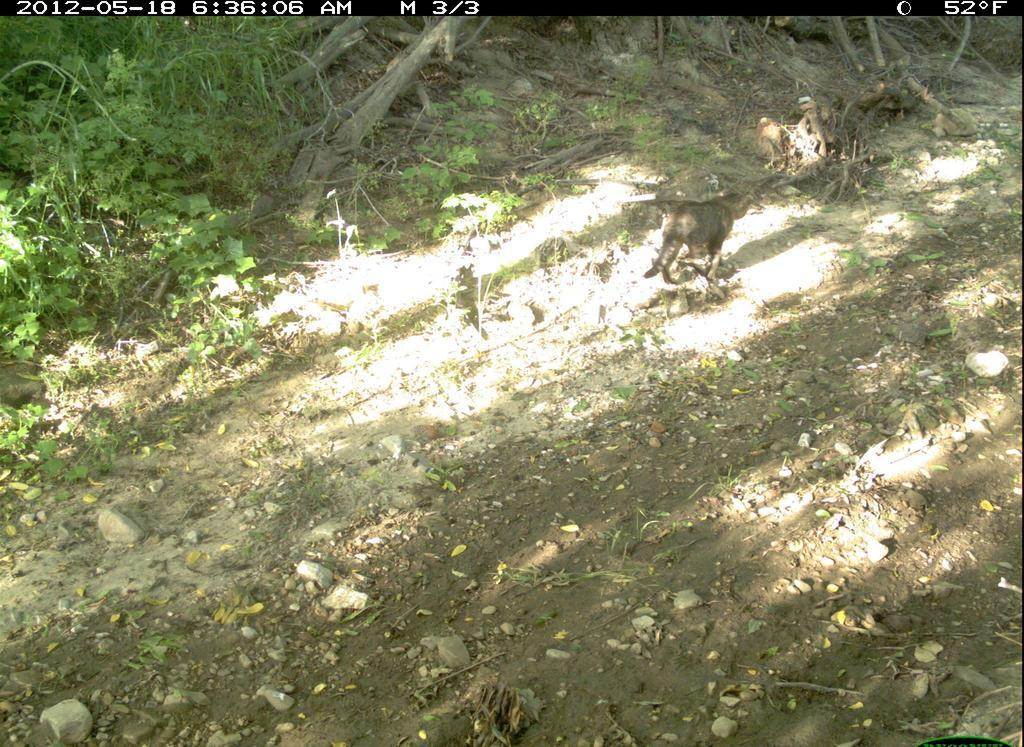cat: (639, 178, 763, 299)
